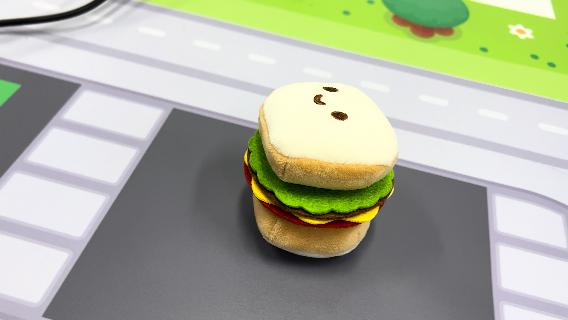sandwich: (241, 78, 401, 260)
